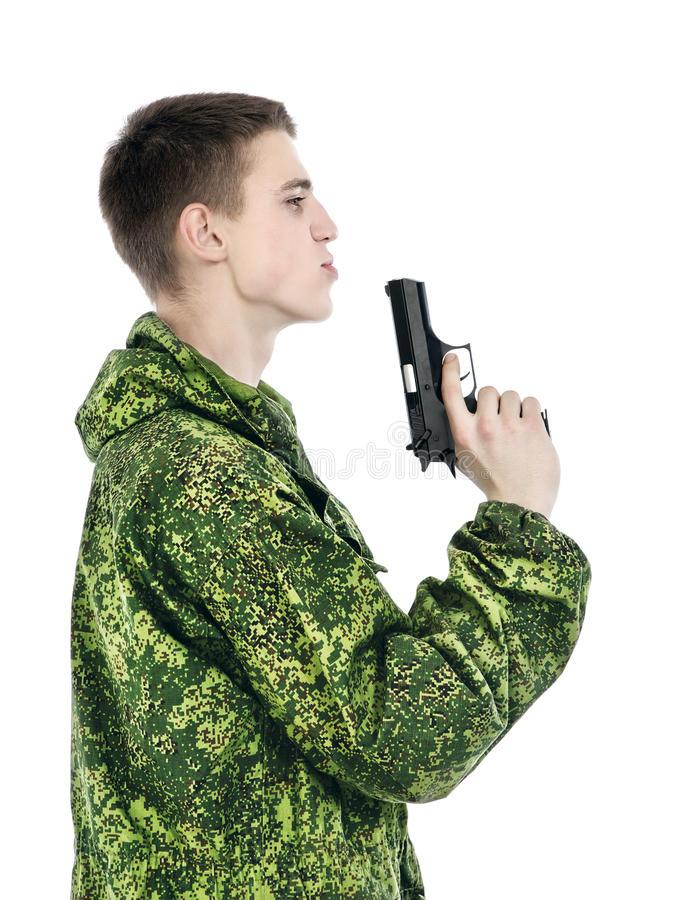criminal: (64, 86, 592, 900)
weapon: (377, 268, 556, 484)
